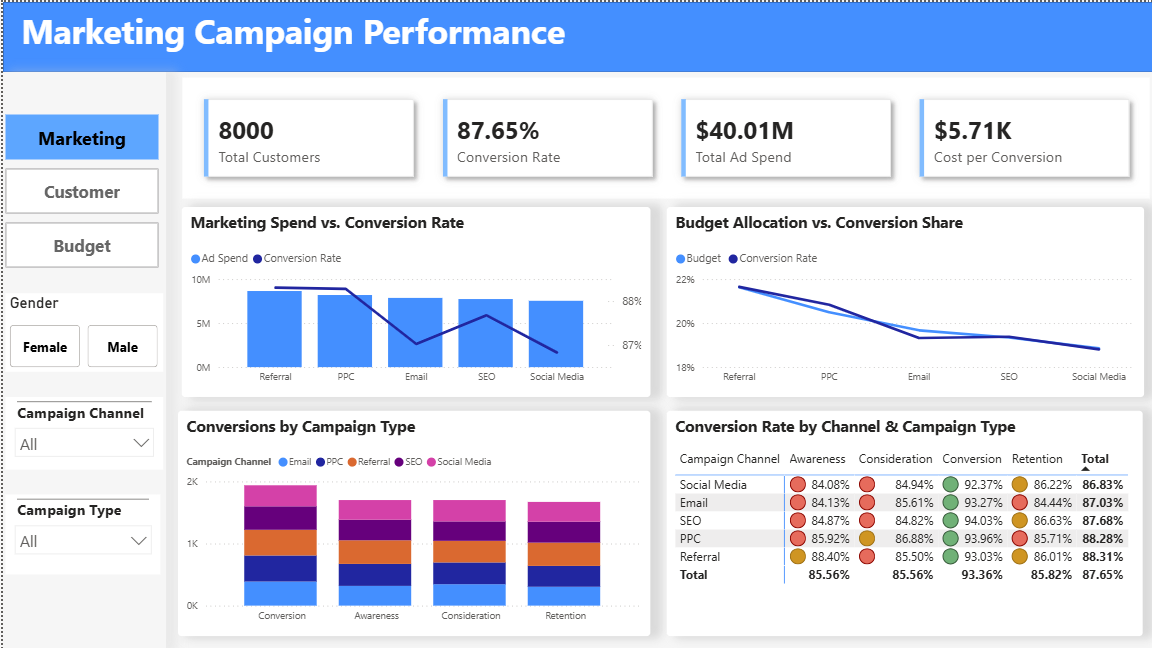

This screenshot's page, from the dashboard's own definition file:
{"tool":"powerbi","page":{"name":"Marketing","canvas":[1280,720],"ordinal":0},"visuals":[{"type":"shape","box":[0,0,1280.3,77.9],"z":0},{"type":"textbox","box":[15.3,1.3,1250.9,77.9],"z":1000},{"type":"shape","box":[0,77.8,180.6,641.7],"z":2000},{"type":"cardVisual","fields":{"Data":["marketing_data.M_TotalCustomers","marketing_data.M_ConversionRate","marketing_data.M_TotalAdSpend","marketing_data.M_CPA"]},"box":[194.4,79.2,1086.1,144.4],"z":3000},{"type":"slicer","fields":{"Values":["marketing_data.campaignchannel"]},"box":[2.8,438.9,175,80.6],"z":4000},{"type":"slicer","fields":{"Values":["marketing_data.campaigntype"]},"box":[2.8,547.2,172.2,88.9],"z":5000},{"type":"advancedSlicerVisual","fields":{"Values":["marketing_data.gender"]},"box":[2.8,323.6,175,87.5],"z":6000},{"type":"pageNavigator","box":[2.8,125,170.8,170.8],"z":7000},{"type":"lineClusteredColumnComboChart","title":"Marketing Spend vs. Conversion Rate","fields":{"Category":["marketing_data.campaignchannel"],"Y":["Sum(marketing_data.adspend)"],"Y2":["marketing_data.M_ConversionRate"]},"box":[198.6,227.8,520.8,211.1],"z":8000},{"type":"columnChart","title":"Conversions by Campaign Type","fields":{"Y":["marketing_data.M_conversion"],"Category":["marketing_data.campaigntype"],"Series":["marketing_data.campaignchannel"]},"box":[194.4,454.2,525,250],"z":9000},{"type":"pivotTable","title":"Conversion Rate by Channel & Campaign Type","fields":{"Rows":["marketing_data.campaignchannel"],"Columns":["marketing_data.campaigntype"],"Values":["marketing_data.M_ConversionRate"]},"box":[737.5,454.2,529.2,250],"z":10000},{"type":"lineChart","title":"Budget Allocation vs. Conversion Share","fields":{"Category":["marketing_data.campaignchannel"],"Y":["marketing_data.M_Budget%channel","marketing_data.M_Conversion%channel"]},"box":[737.5,227.8,530.6,211.1],"z":11000}]}

Visuals, with their boxes in screenshot pixels (x1, y1, x2, y2), scaled from the page's 1280x720 canvas onto the 1152x648 screenshot:
shape: detection(0, 0, 1151, 70)
textbox: detection(14, 1, 1140, 71)
shape: detection(0, 70, 163, 647)
cardVisual - marketing_data.M_TotalCustomers x marketing_data.M_ConversionRate: detection(175, 71, 1151, 201)
slicer - marketing_data.campaignchannel: detection(3, 395, 160, 468)
slicer - marketing_data.campaigntype: detection(3, 492, 158, 572)
advancedSlicerVisual - marketing_data.gender: detection(3, 291, 160, 370)
pageNavigator: detection(3, 112, 156, 266)
"Marketing Spend vs. Conversion Rate" lineClusteredColumnComboChart: detection(179, 205, 647, 395)
"Conversions by Campaign Type" columnChart: detection(175, 409, 647, 634)
"Conversion Rate by Channel & Campaign Type" pivotTable: detection(664, 409, 1140, 634)
"Budget Allocation vs. Conversion Share" lineChart: detection(664, 205, 1141, 395)
